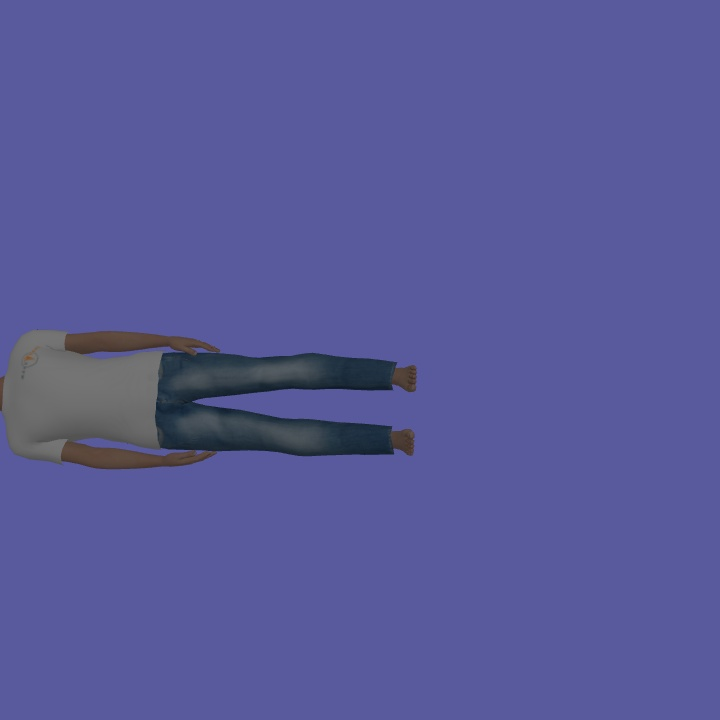victim: (1, 323, 423, 480)
